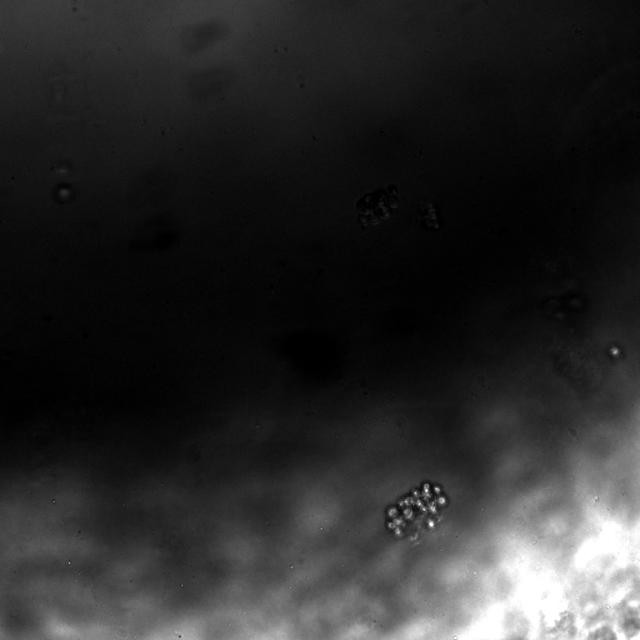organoid: (385, 481, 449, 540), (52, 160, 74, 203), (606, 343, 624, 363)
